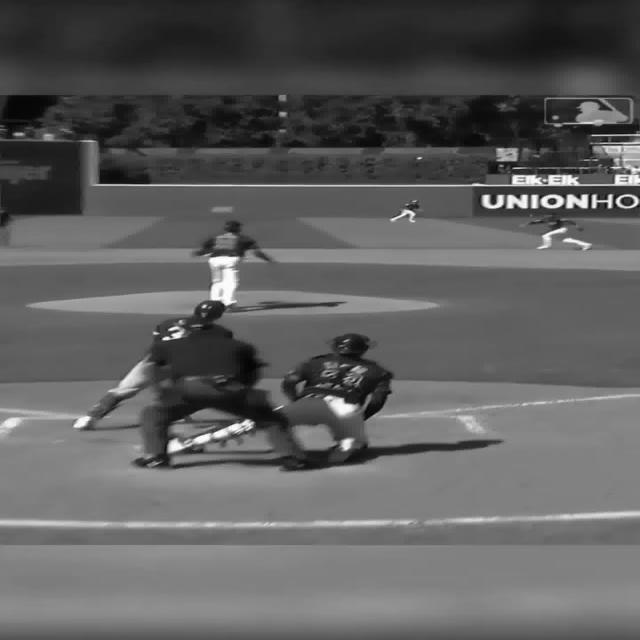baseball: (415, 156, 423, 160)
baseball_glove: (575, 225, 584, 231)
shoe: (211, 418, 255, 442), (326, 441, 367, 463), (166, 437, 203, 454), (133, 453, 169, 468), (278, 456, 308, 470), (73, 416, 99, 430), (225, 301, 239, 311), (580, 243, 592, 250)
